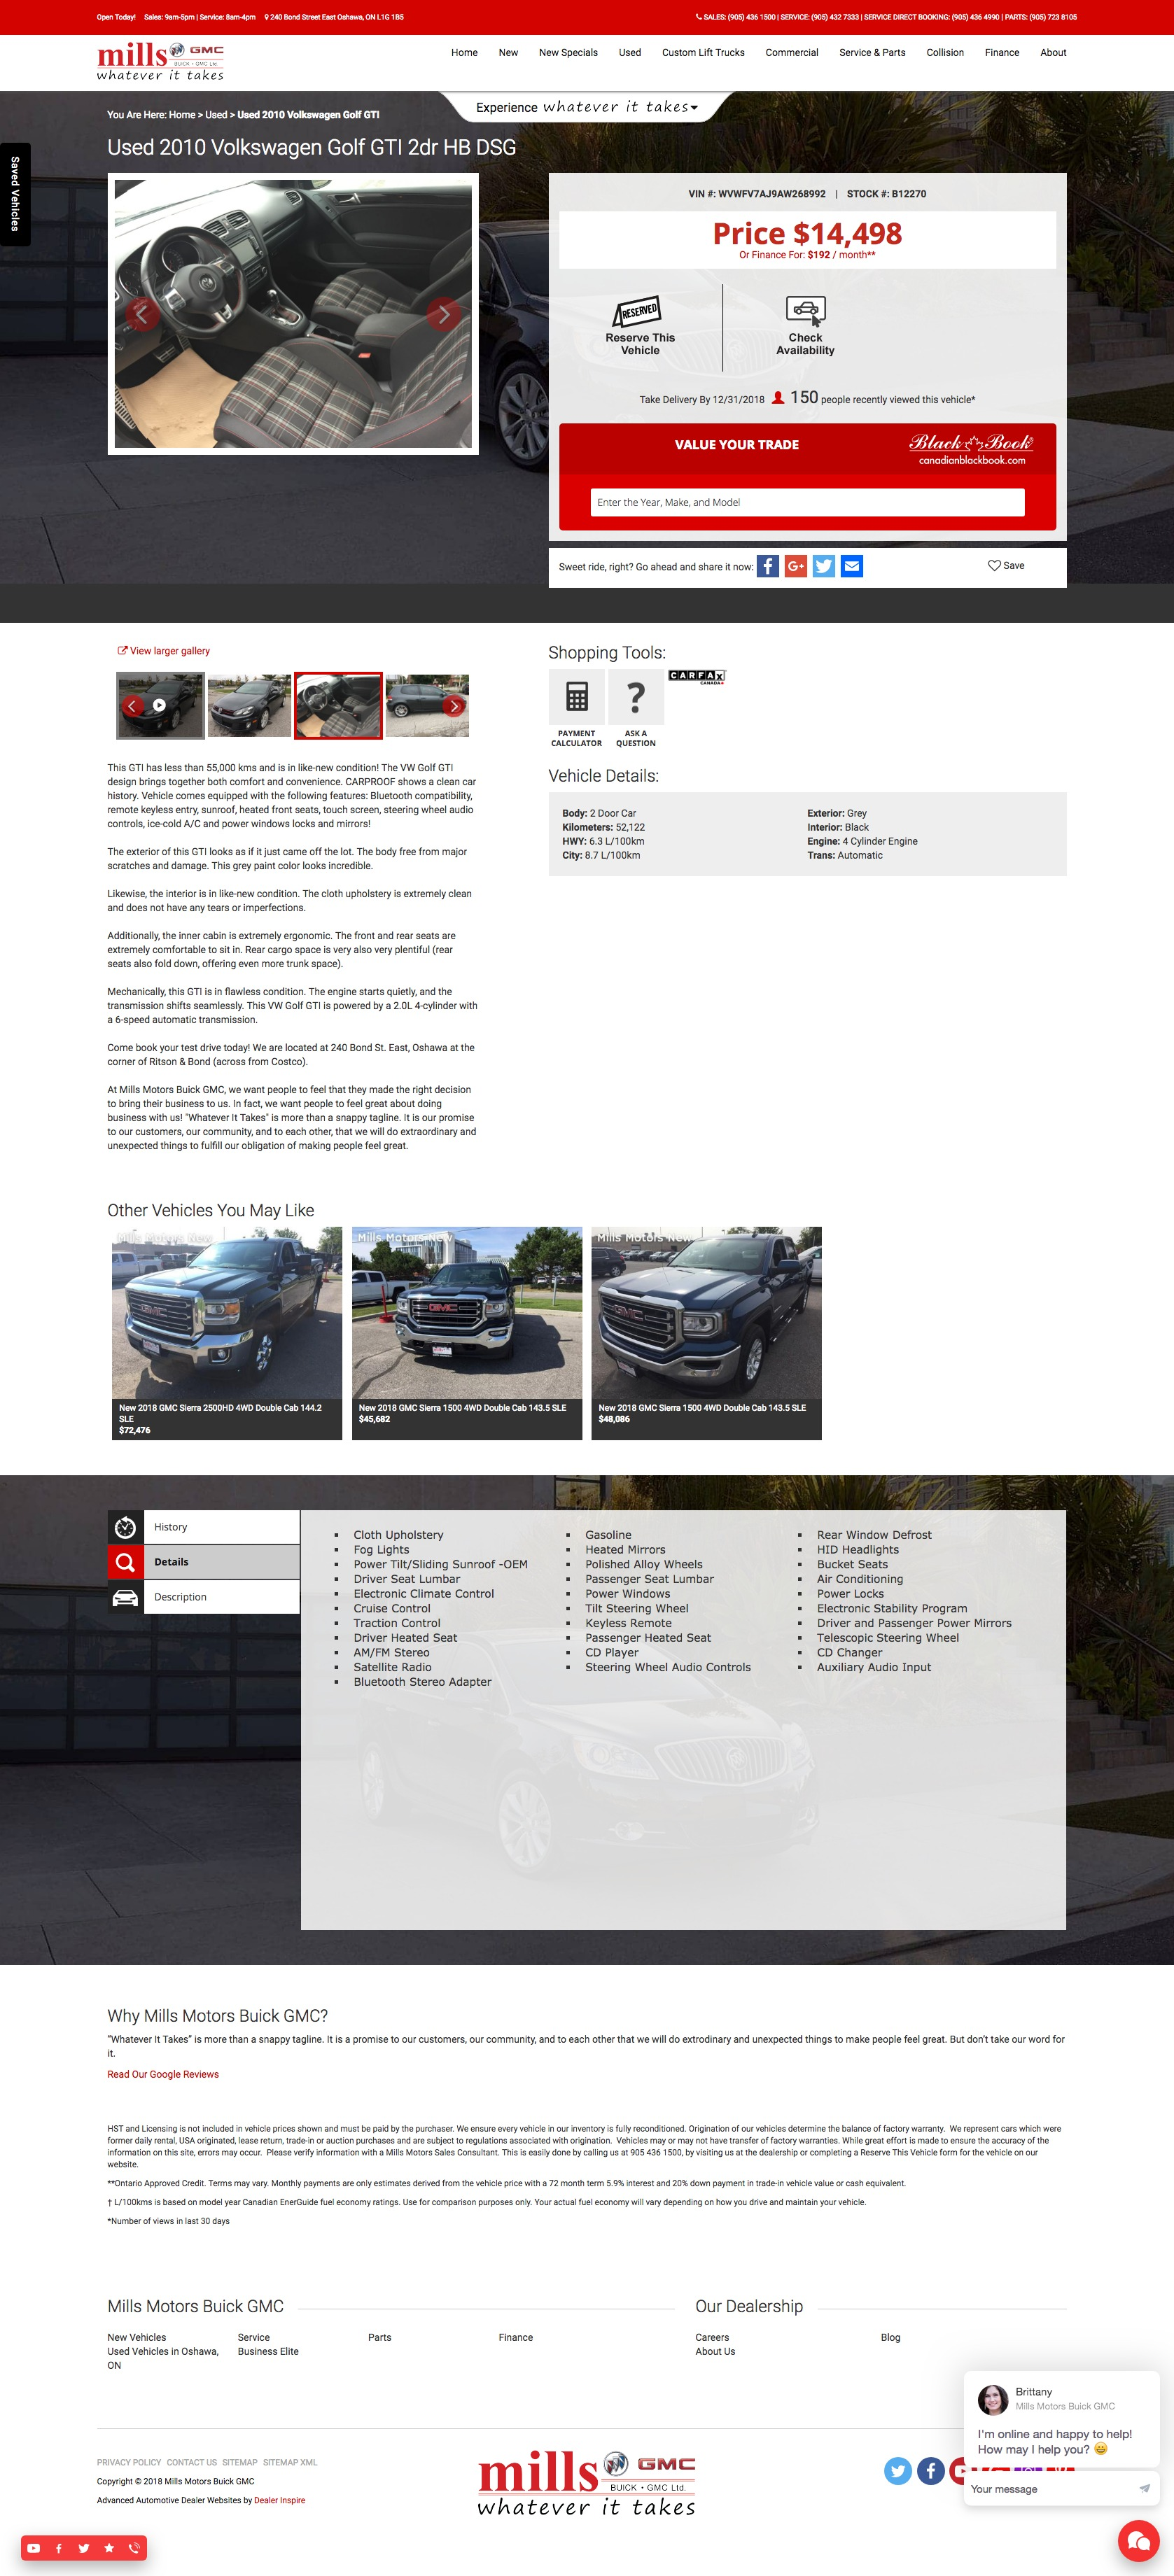car: (451, 700, 459, 715)
